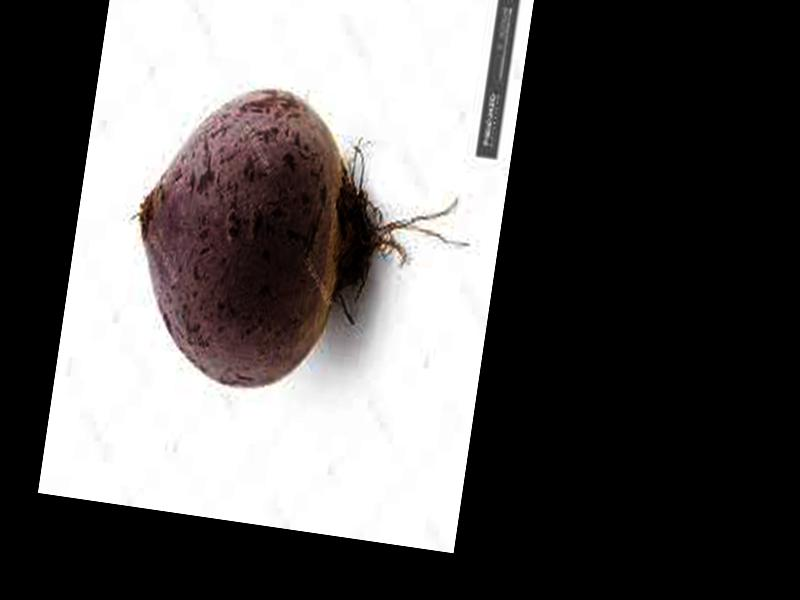Beet: (114, 69, 488, 418)
